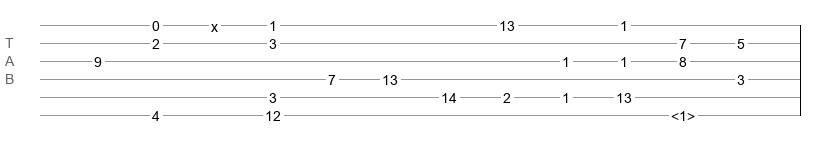0: (152, 18, 160, 28)
1: (269, 18, 277, 28), (562, 54, 570, 64), (562, 90, 570, 100), (620, 54, 628, 64), (620, 18, 628, 28)
12: (265, 108, 281, 118)
13: (382, 72, 398, 82), (499, 18, 515, 28), (616, 90, 632, 100)
14: (441, 90, 457, 100)
2: (152, 36, 160, 46), (503, 90, 511, 100)
3: (269, 90, 277, 100), (269, 36, 277, 46), (737, 72, 745, 82)
4: (152, 108, 160, 118)
5: (737, 36, 745, 46)
7: (328, 72, 336, 82), (679, 36, 687, 46)
8: (679, 54, 687, 64)
9: (94, 54, 102, 64)
harmonic: (671, 108, 695, 118)
x: (211, 19, 218, 27)
